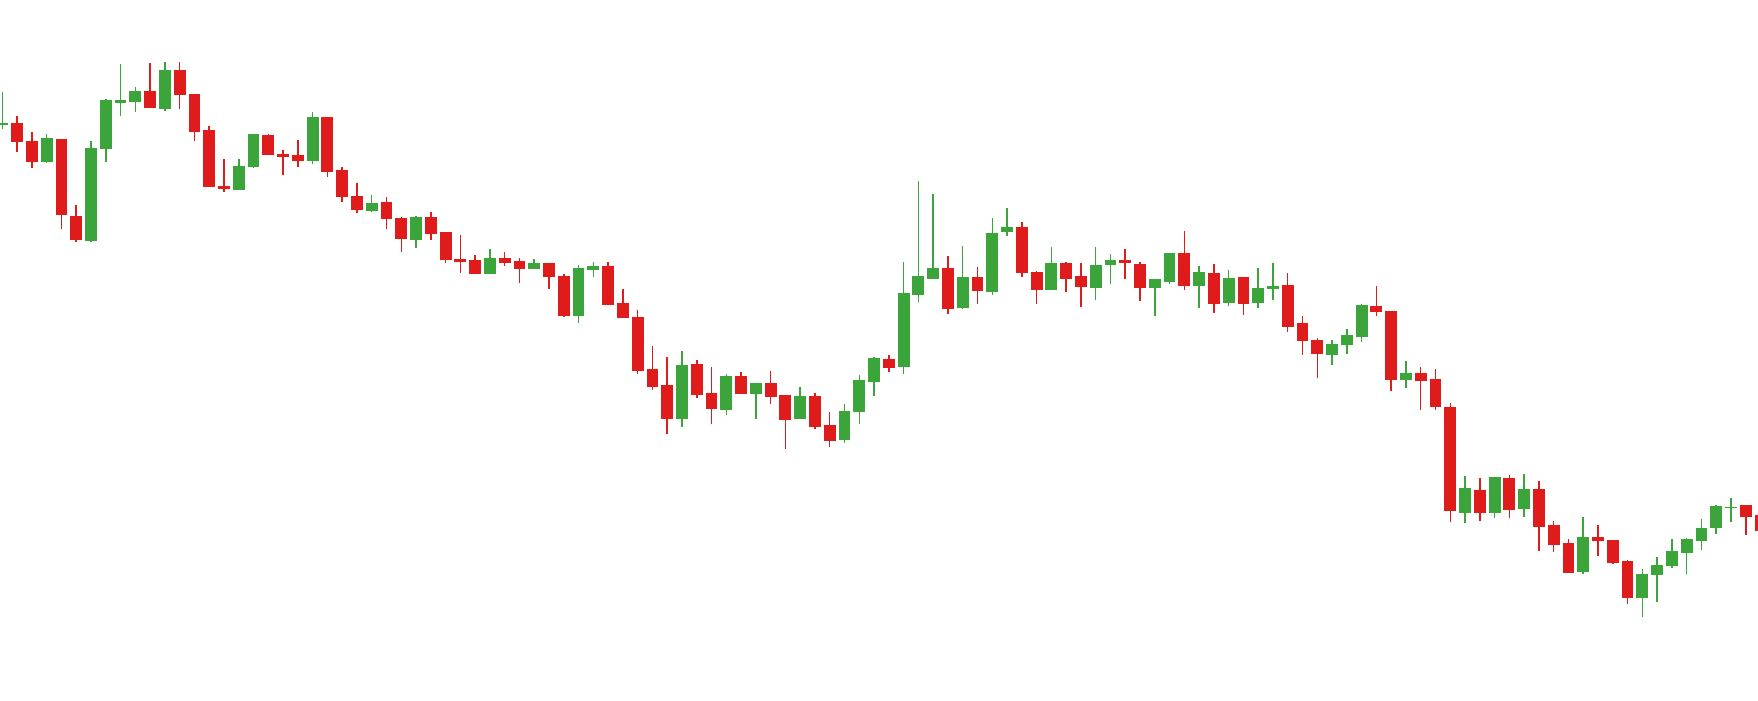sell: (246, 111, 336, 158)
